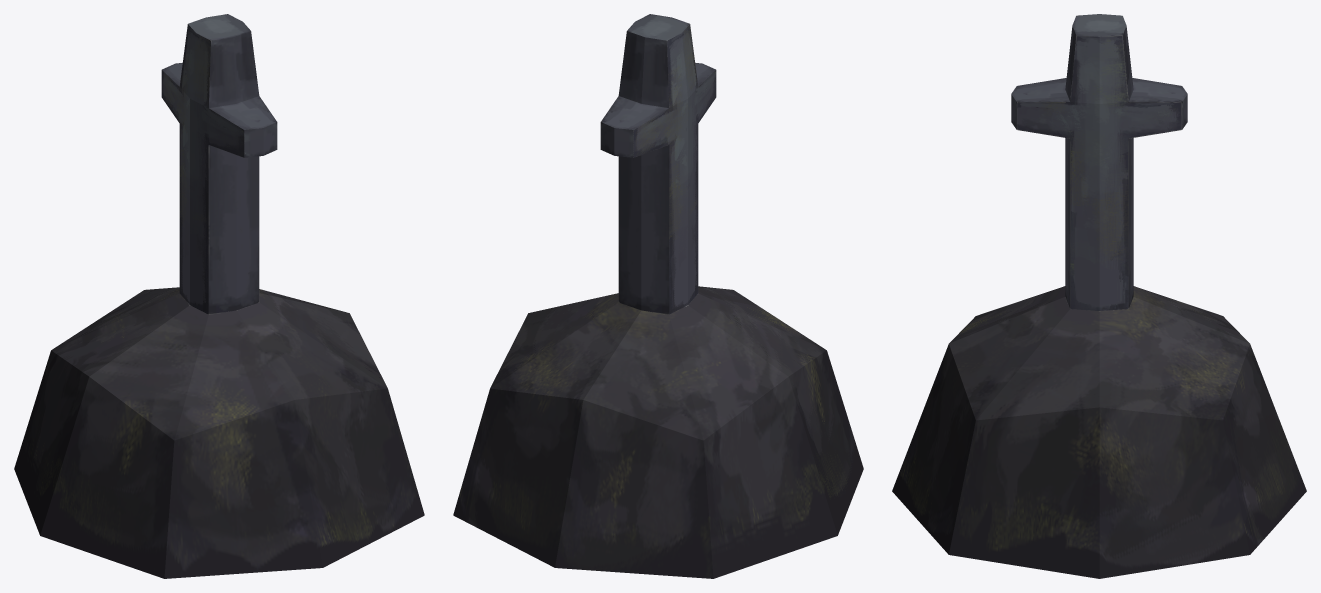
Rendered from Grave_church02.fbx.
3 views of the same model, side by side, from view 1: azimuth 30°, elevation 25°; view 2: azimuth 150°, elevation 25°; view 3: azimuth 270°, elevation 25° (orthographic).
Parts seen in each view (by area): view 1: Grave_church02; view 2: Grave_church02; view 3: Grave_church02.
Boxes of the visible parts, x1,y1,x2,y2 form: Grave_church02: [14, 14, 424, 578]; Grave_church02: [453, 14, 863, 578]; Grave_church02: [892, 14, 1306, 578].
Size of the model in its own units: 0.8722 by 1.08 by 0.8722.
1 material, 1 textured.
